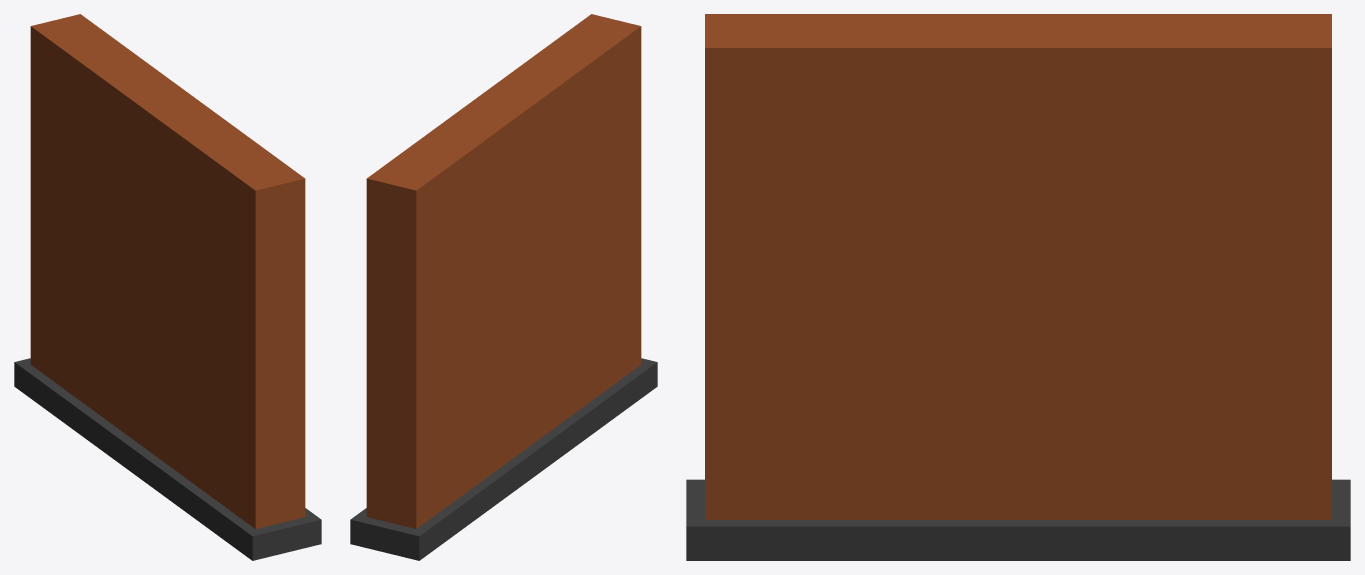
The model's file is sein0.fbx.
3 renders of one model, left to right at view 1: azimuth 30°, elevation 25°; view 2: azimuth 150°, elevation 25°; view 3: azimuth 270°, elevation 25°, orthographic. The views are drawn at different scales.
Parts seen in each view (by area): view 1: Cube; view 2: Cube; view 3: Cube.
Part boxes in pixels (box(x1,y1,x2,y2)): Cube: box(14, 14, 321, 560); Cube: box(350, 14, 657, 560); Cube: box(686, 14, 1350, 560).
Size of the model in its own units: 65.46 by 329 by 392.
